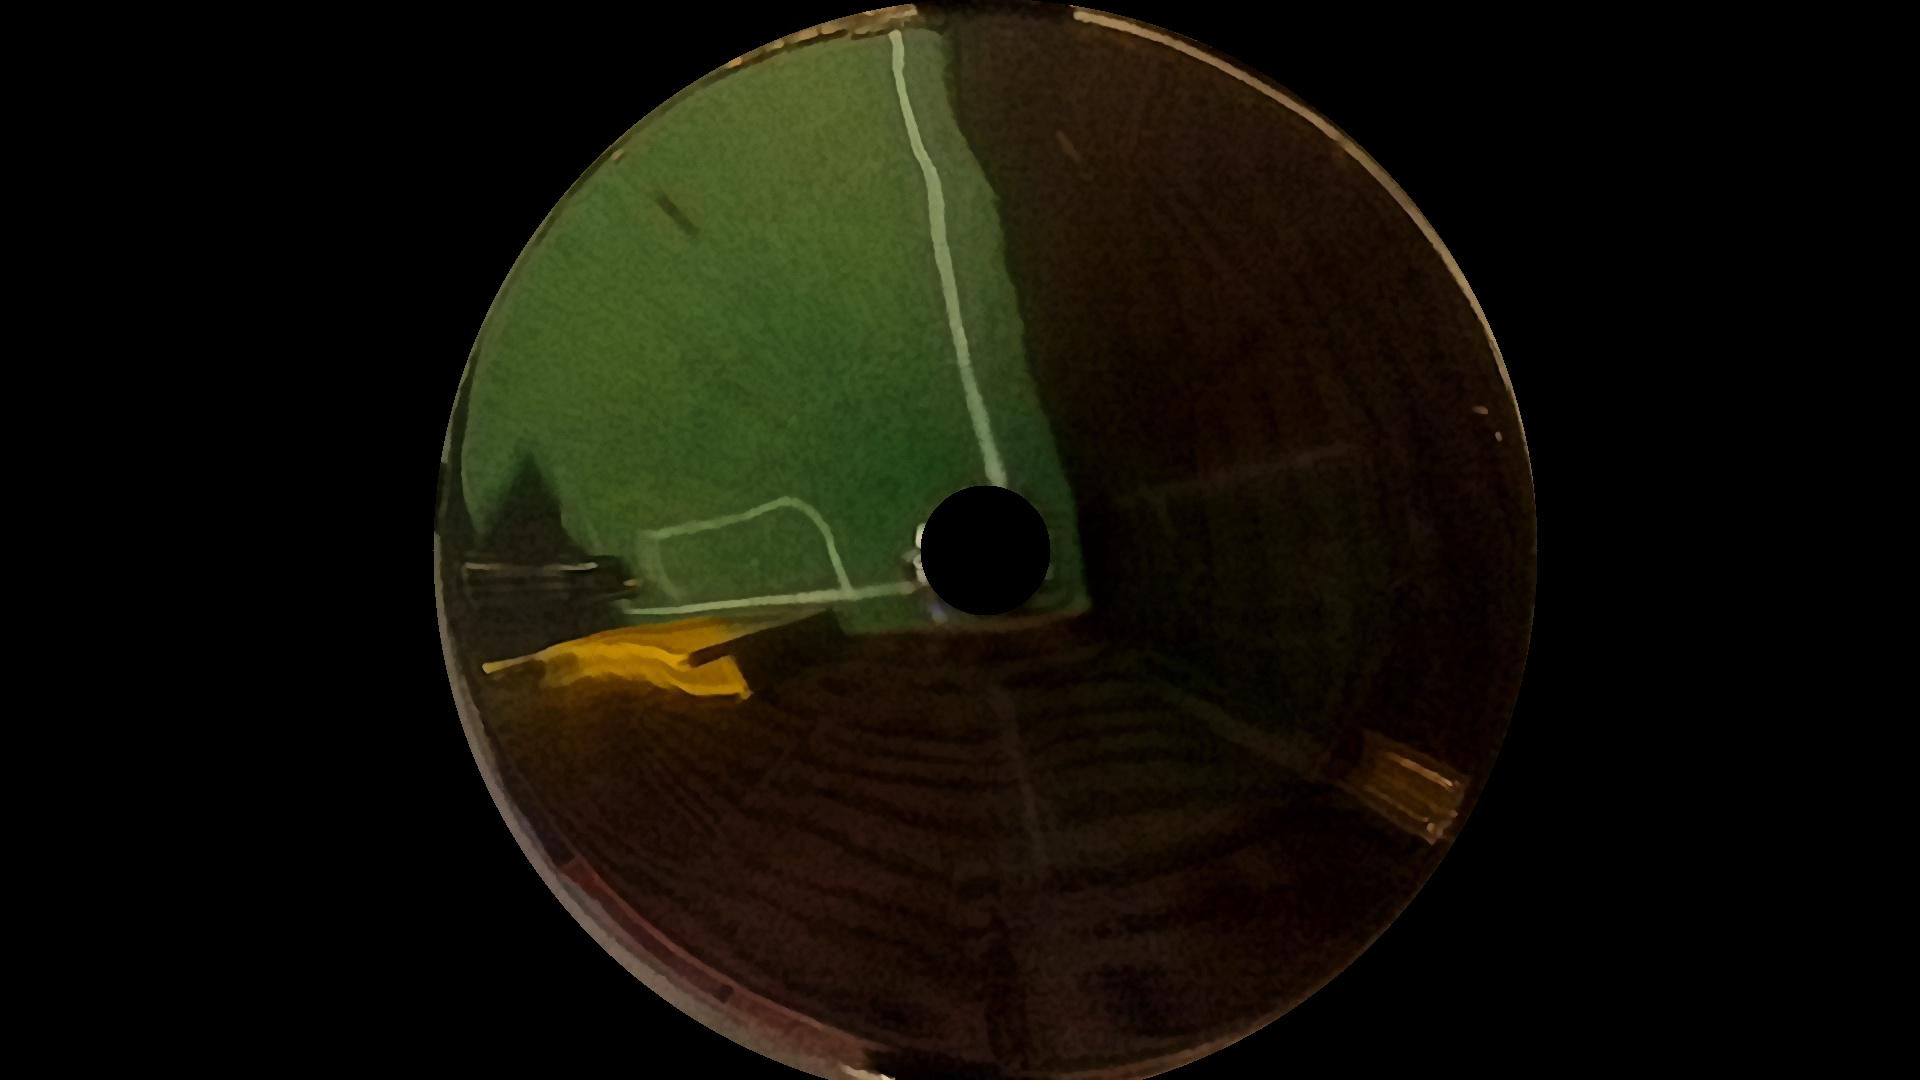robots: (456, 545, 632, 611)
yellow-goal: (504, 618, 804, 698)
